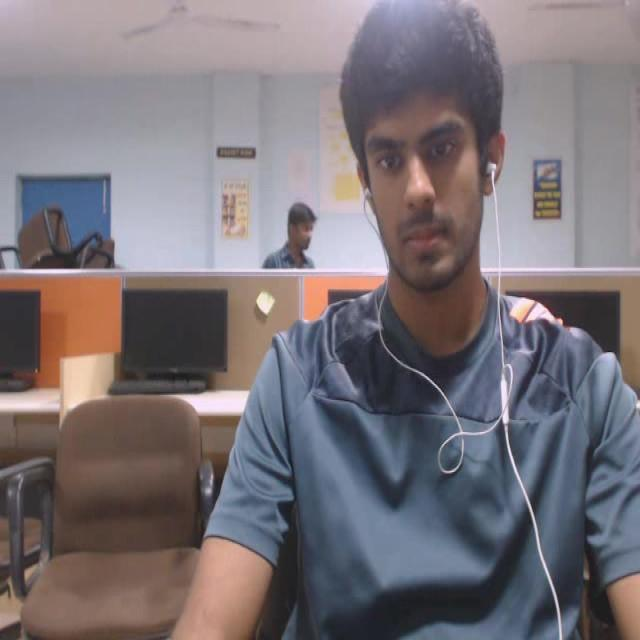Engaged: (329, 0, 528, 314)
